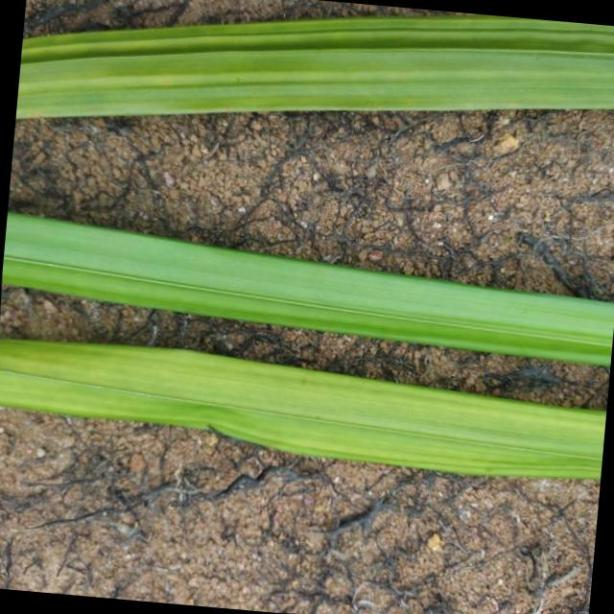nitrogen: (0, 204, 614, 367), (0, 326, 614, 475), (19, 10, 614, 120)
